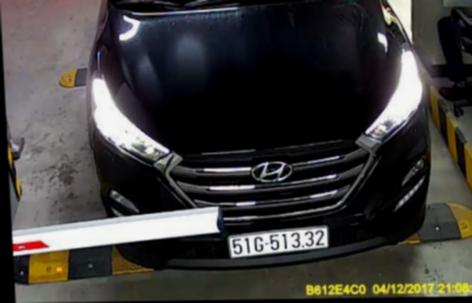License_Plate: (221, 226, 334, 256)
